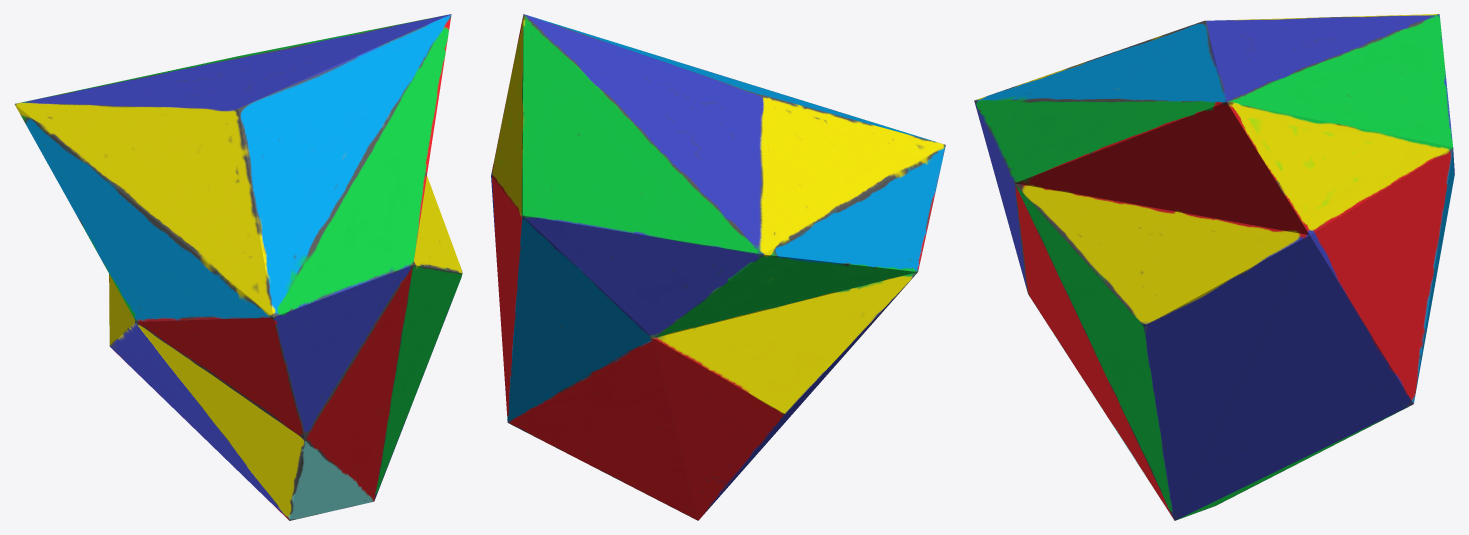
The picture shows the model from 3 angles, left to right: view 1: azimuth 30°, elevation 25°; view 2: azimuth 150°, elevation 25°; view 3: azimuth 270°, elevation 25°; orthographic projection. The views are drawn at different scales.
Parts seen in each view (by area): view 1: node_id7; view 2: node_id7; view 3: node_id7.
Boxes of the visible parts, left/top/right/bottom form: node_id7: left=14, top=14, right=462, bottom=520; node_id7: left=491, top=14, right=945, bottom=520; node_id7: left=974, top=14, right=1454, bottom=520.
Size of the model in its own units: 0.2162 by 0.2713 by 0.241.
Materials: 1 (1 with a texture image).
